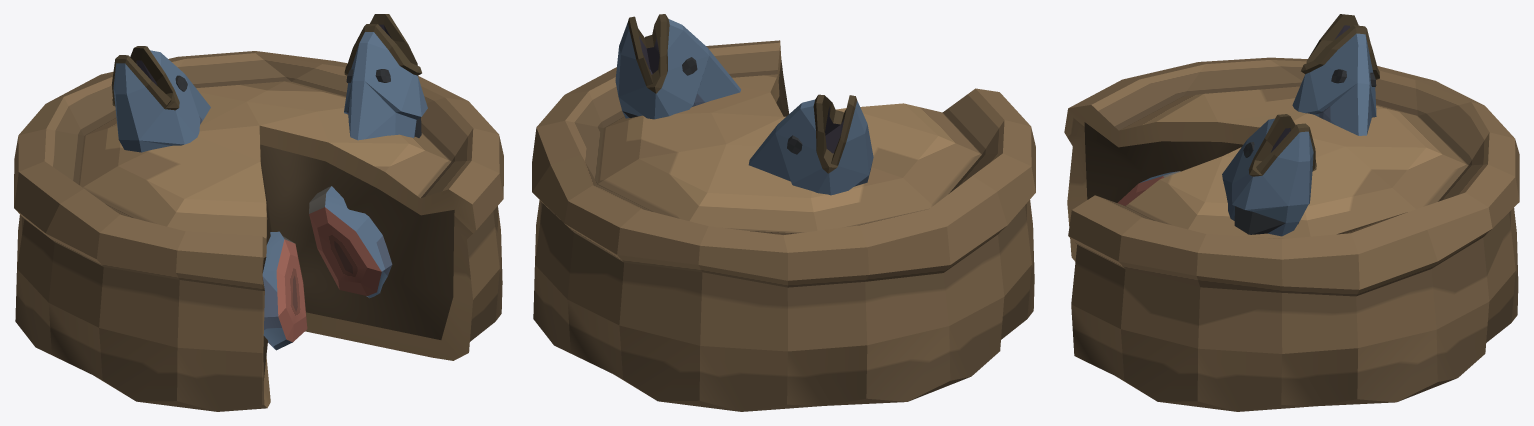
File: SM_Prop_Food_Pie_02.fbx
3 views of the same model, side by side, from view 1: azimuth 30°, elevation 25°; view 2: azimuth 150°, elevation 25°; view 3: azimuth 270°, elevation 25° (orthographic). The views are drawn at different scales.
Parts seen in each view (by area): view 1: SM_Prop_Food_Pie_02; view 2: SM_Prop_Food_Pie_02; view 3: SM_Prop_Food_Pie_02.
Part boxes in pixels (x1=…): SM_Prop_Food_Pie_02: x1=14, y1=14, x2=503, y2=411; SM_Prop_Food_Pie_02: x1=532, y1=14, x2=1035, y2=411; SM_Prop_Food_Pie_02: x1=1064, y1=14, x2=1519, y2=411.
Size of the model in its own units: 38.57 by 22.46 by 35.85.
